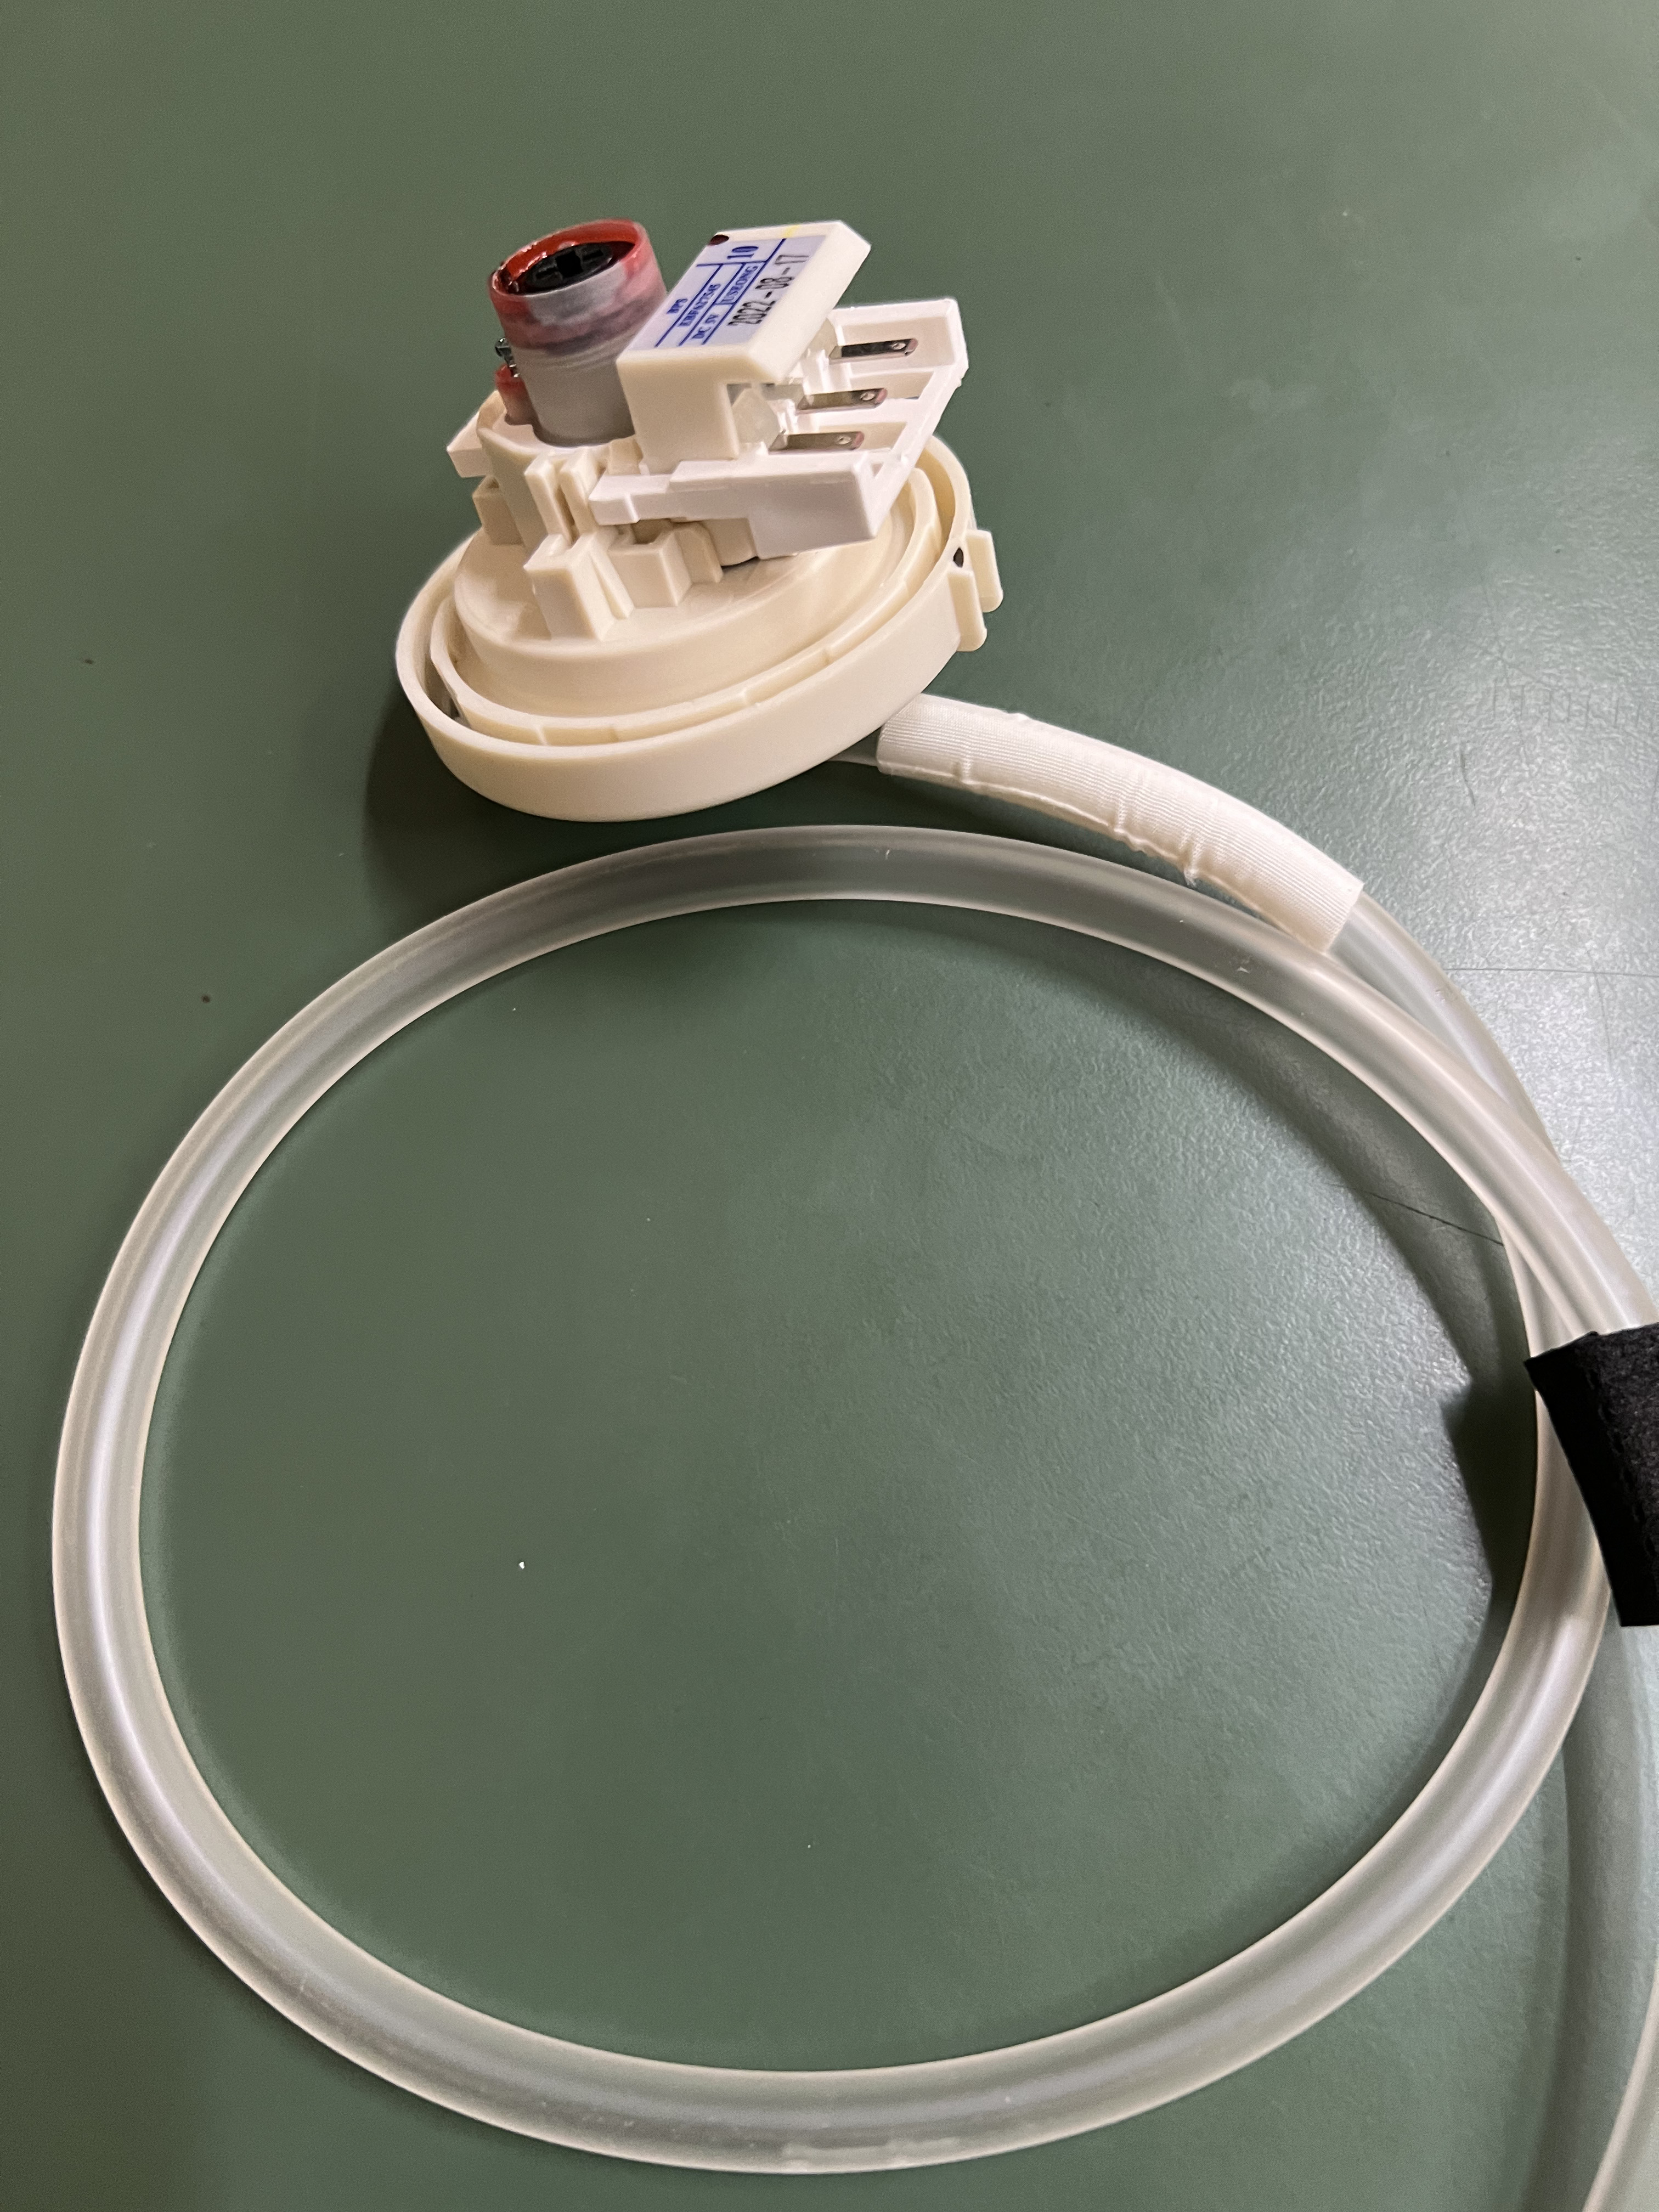pressure_sensor: (359, 216, 1019, 848)
